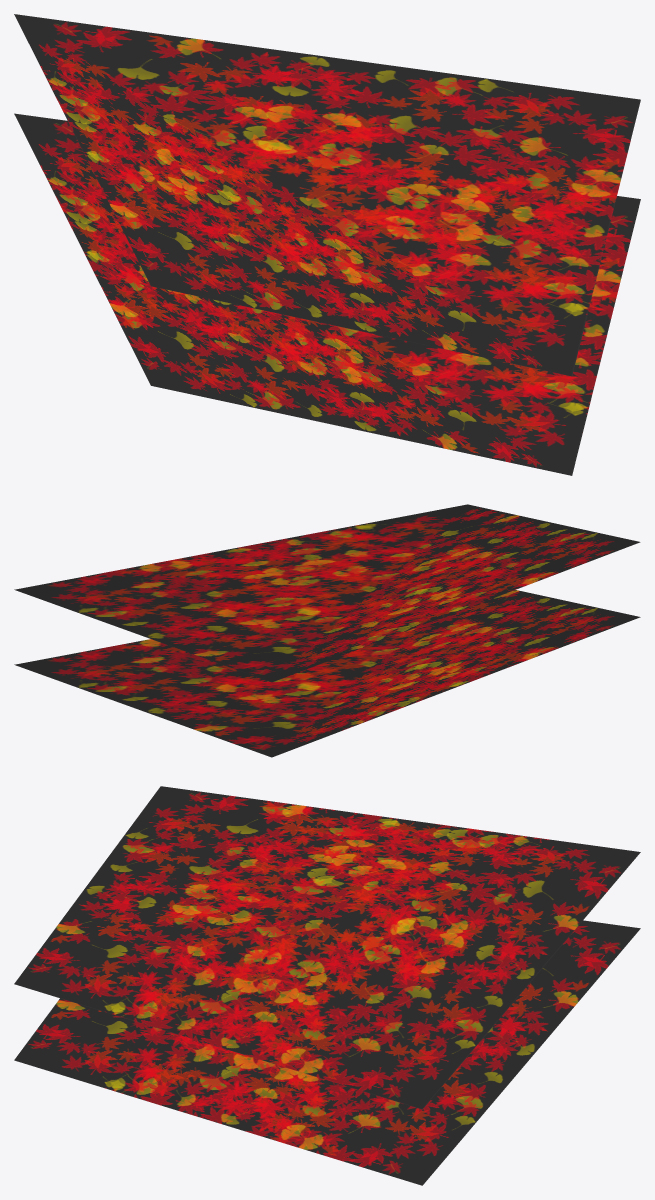
Rendered from CourseAki_CurveFloor_3_17.fbx.
The picture shows the model from 3 angles, top to bottom: view 1: azimuth 30°, elevation 25°; view 2: azimuth 150°, elevation 25°; view 3: azimuth 270°, elevation 25°; orthographic projection. The views are drawn at different scales.
Visible parts, largest first — view 1: polySurface466; view 2: polySurface466; view 3: polySurface466.
Part boxes in pixels (<box>): polySurface466: <box>14,14,640,475</box>; polySurface466: <box>14,504,640,757</box>; polySurface466: <box>14,786,640,1185</box>.
Size of the model in its own units: 6.95 by 2 by 7.45.
Materials: 1 (1 with a texture image).
